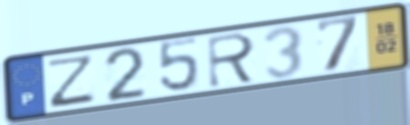2: (102, 46, 149, 104)
3: (262, 21, 307, 83)
5: (157, 35, 202, 95)
7: (315, 13, 361, 74)
R: (205, 30, 259, 90)
Z: (47, 52, 97, 110)
